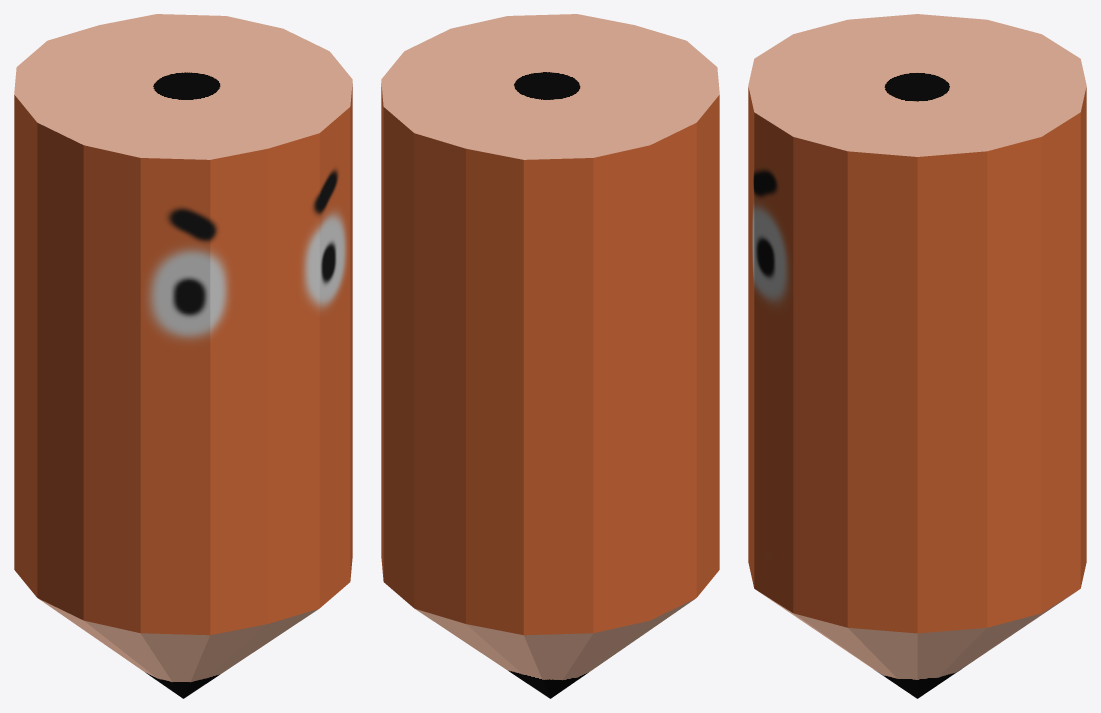
The model's file is pencil.obj.
3 renders of one model, left to right at view 1: azimuth 30°, elevation 25°; view 2: azimuth 150°, elevation 25°; view 3: azimuth 270°, elevation 25°, orthographic.
Parts seen in each view (by area): view 1: 立方体.008; view 2: 立方体.008; view 3: 立方体.008.
Boxes of the visible parts, x1,y1,x2,y2 form: 立方体.008: [14, 14, 352, 698]; 立方体.008: [381, 14, 719, 698]; 立方体.008: [748, 14, 1086, 698].
Bounding box in the file's own units: 1 × 2 × 1.
Materials: 1 (1 with a texture image).
